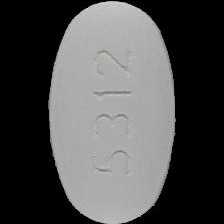10544-606: (0, 0, 224, 224)
